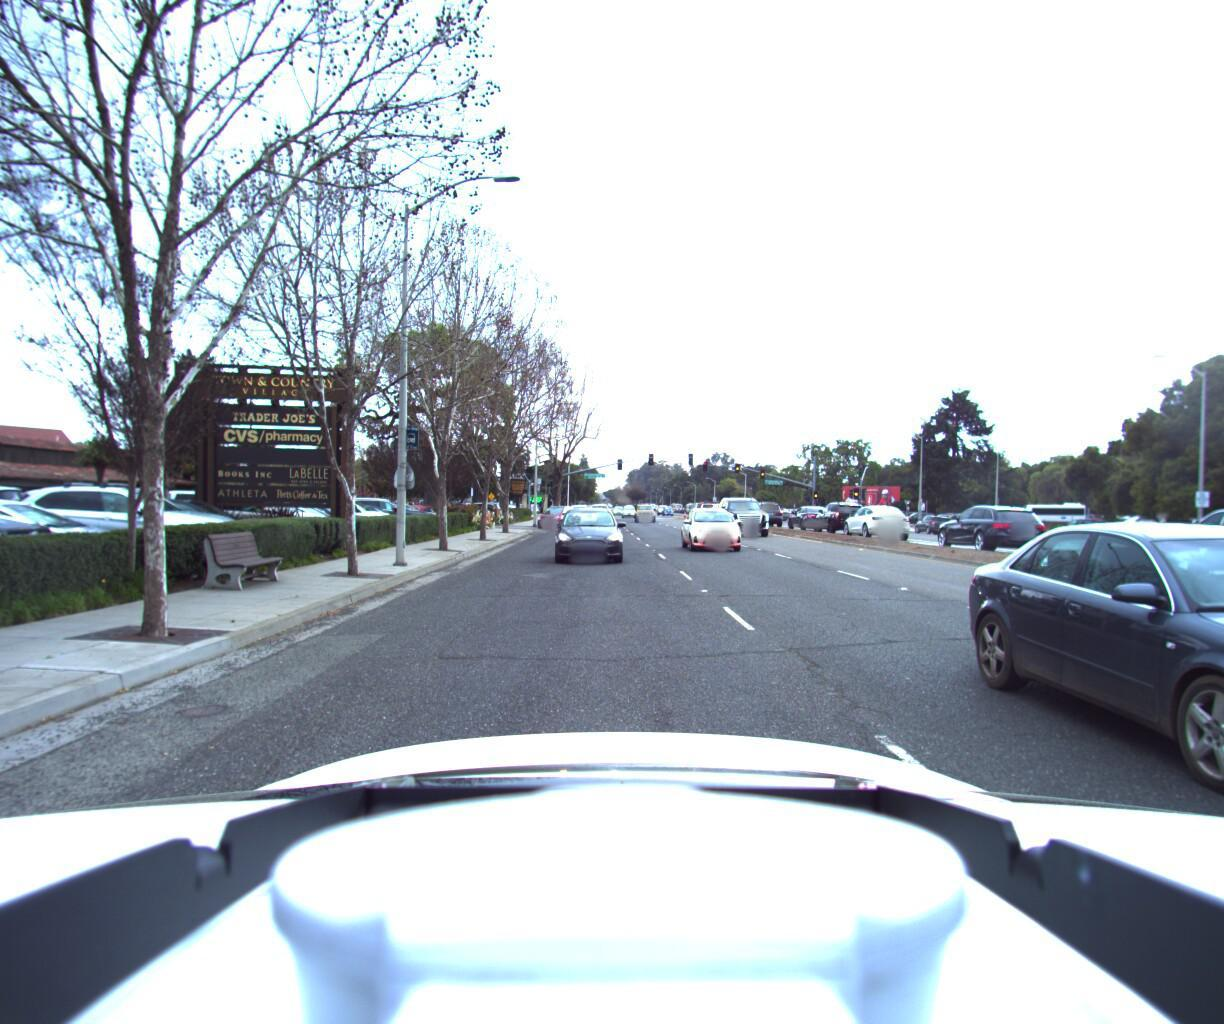car: (1021, 513, 1224, 1024), (0, 483, 249, 573), (85, 498, 287, 563), (0, 467, 80, 610), (0, 495, 120, 591), (172, 493, 339, 553), (929, 506, 1057, 557), (288, 496, 404, 541), (1138, 507, 1224, 567), (551, 509, 623, 570), (680, 508, 756, 559), (336, 499, 437, 536), (1048, 517, 1133, 552), (842, 506, 918, 541), (721, 500, 778, 542), (811, 501, 871, 535), (986, 518, 1051, 545), (785, 507, 837, 534), (530, 507, 578, 529), (744, 503, 785, 529), (1206, 523, 1224, 569), (564, 503, 593, 527), (697, 501, 724, 522), (633, 504, 658, 524)
